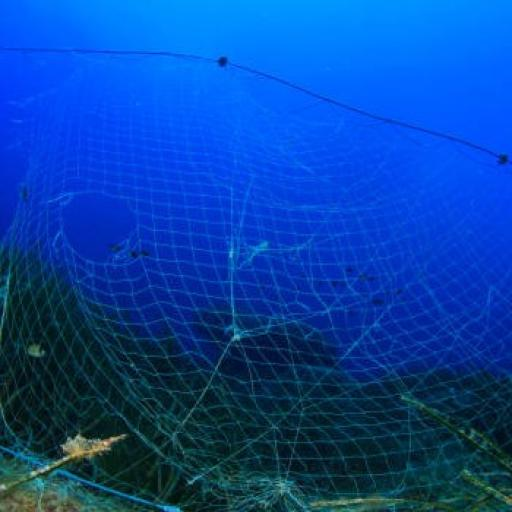net: (0, 52, 509, 512)
